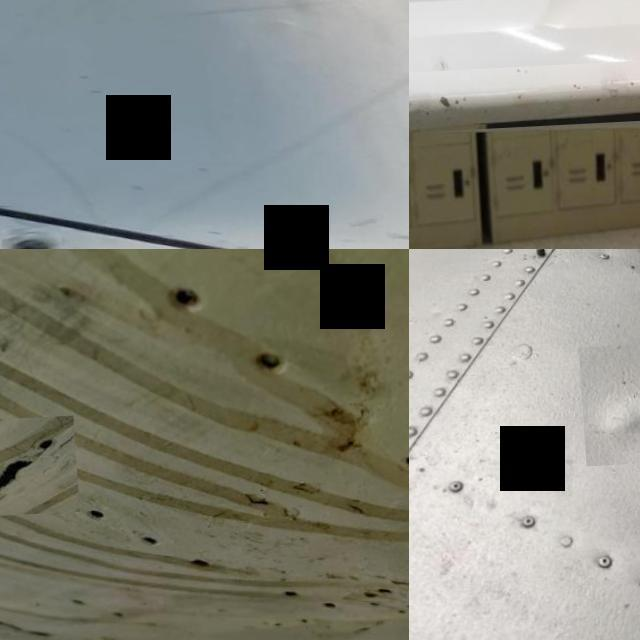Crack: (409, 65, 640, 150), (0, 418, 73, 519)
Dent: (573, 345, 640, 469)
Missing_Fastener: (0, 229, 55, 249)
